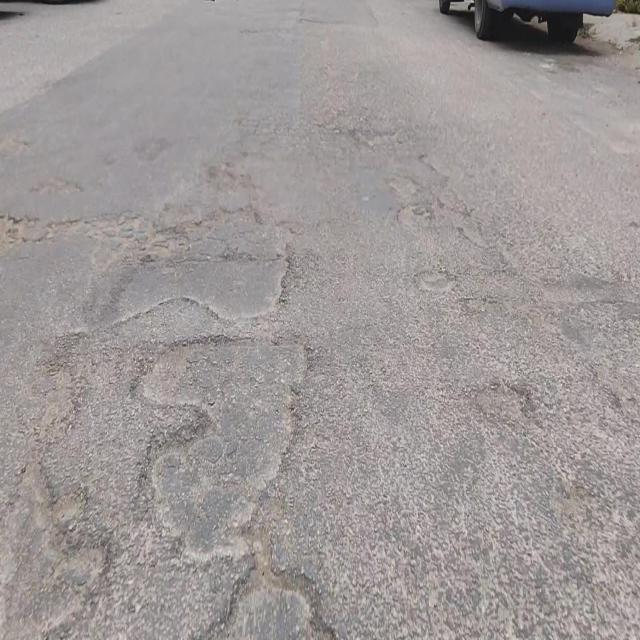Potholes: (129, 332, 313, 562), (0, 459, 112, 640), (78, 248, 291, 342), (203, 546, 338, 640)
